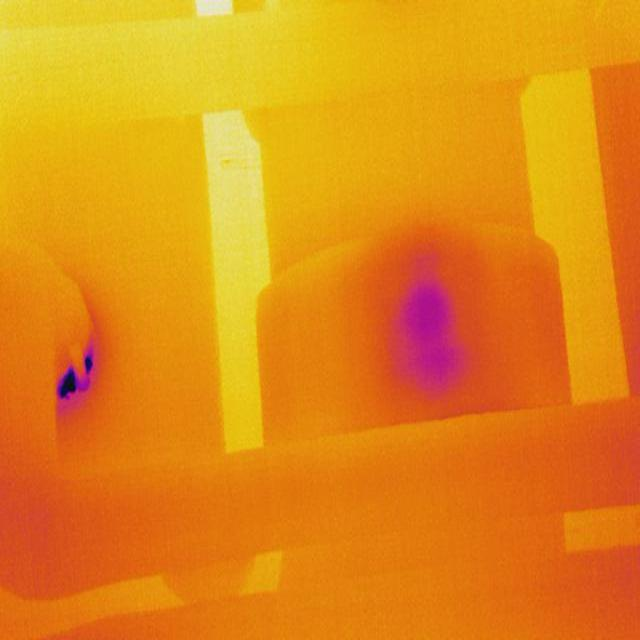leakage: (391, 268, 467, 388), (53, 348, 103, 403)
